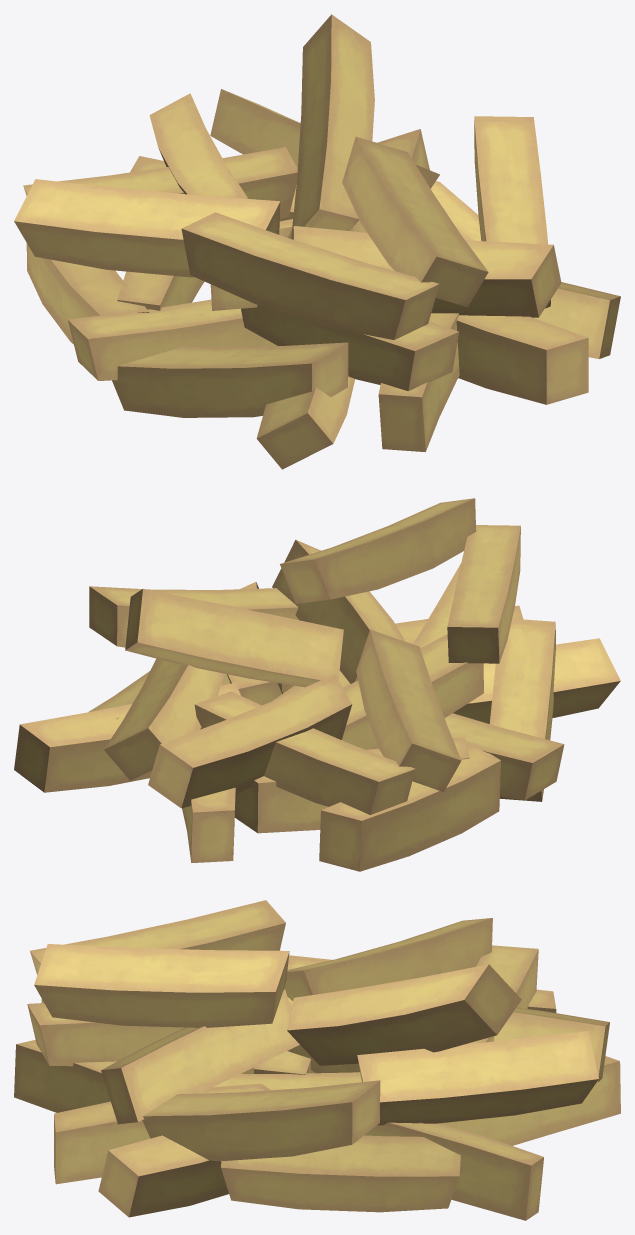
Rendered from Chopped_Chips.fbx.
The picture shows the model from 3 angles, top to bottom: view 1: azimuth 30°, elevation 25°; view 2: azimuth 150°, elevation 25°; view 3: azimuth 270°, elevation 25°; orthographic projection. The views are drawn at different scales.
Parts seen in each view (by area): view 1: Chopped_Chips; view 2: Chopped_Chips; view 3: Chopped_Chips.
Boxes of the visible parts, <box> form: Chopped_Chips: <box>14,14,620,469</box>; Chopped_Chips: <box>14,498,620,871</box>; Chopped_Chips: <box>14,900,620,1220</box>.
Bounding box in the file's own units: 0.8192 × 0.3835 × 0.9439.
Materials: 1 (1 with a texture image).
